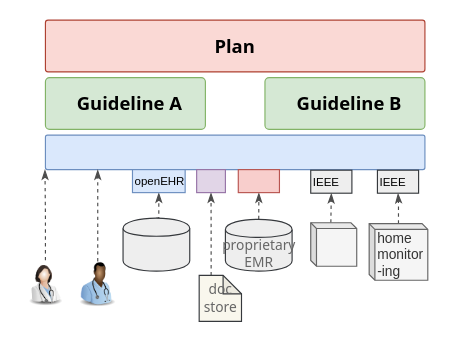
Some shapes in this 449 by 342 pixel diagram are drawn without their labels. The shapes that lost their labels are listed below. From the top down, each one's centre as x and y in pixels, then its label:
[234,152]: Subject Proxy service
[210,180]: XDS
[258,180]: FHIR
[156,244]: openEHR CDR
[333,244]: vital signs
